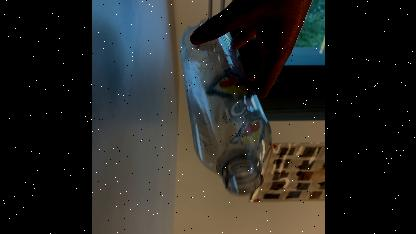Plastic Bottle: (174, 19, 272, 203)
